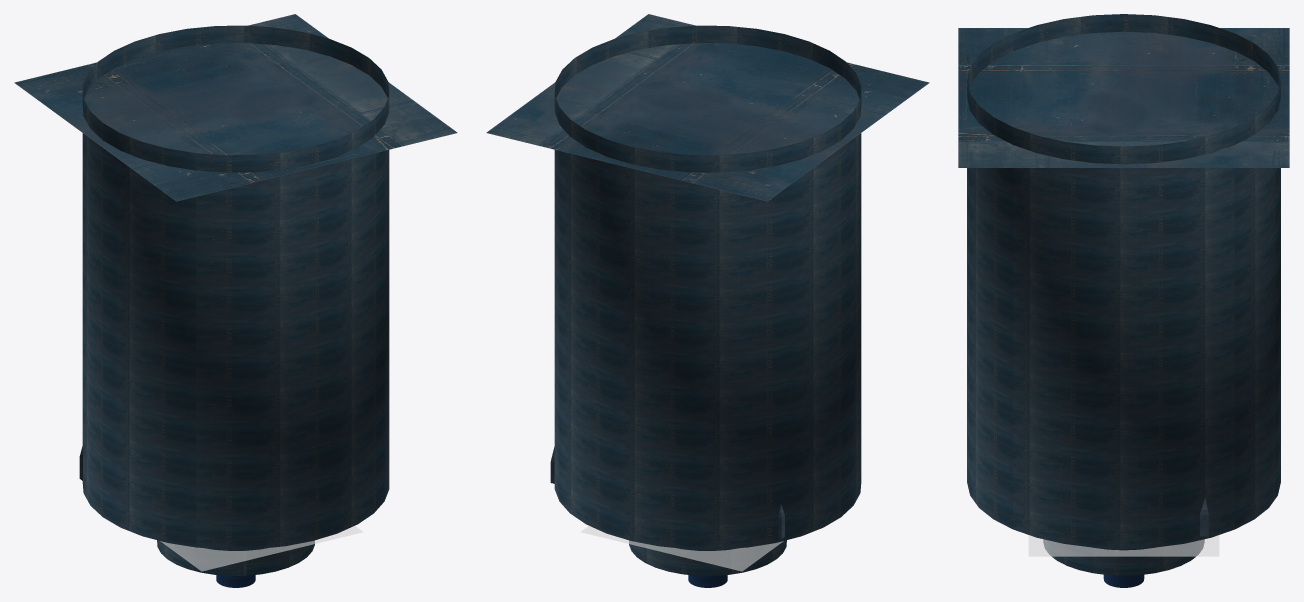
The model's file is nuclear_pool.glb.
The picture shows the model from 3 angles, left to right: view 1: azimuth 30°, elevation 25°; view 2: azimuth 150°, elevation 25°; view 3: azimuth 270°, elevation 25°; orthographic projection. The views are drawn at different scales.
Parts seen in each view (by area): view 1: Cylinder, Plane; view 2: Cylinder, Plane; view 3: Cylinder, Plane.
Part boxes in pixels (<box>): Cylinder: <box>14,14,457,587</box>; Plane: <box>160,526,362,571</box>; Cylinder: <box>486,14,929,587</box>; Plane: <box>581,526,783,571</box>; Cylinder: <box>958,14,1289,587</box>; Plane: <box>1028,535,1219,556</box>.
Bounding box in the file's own units: 18.23 × 30.27 × 18.23.
3 materials, 2 textured.
